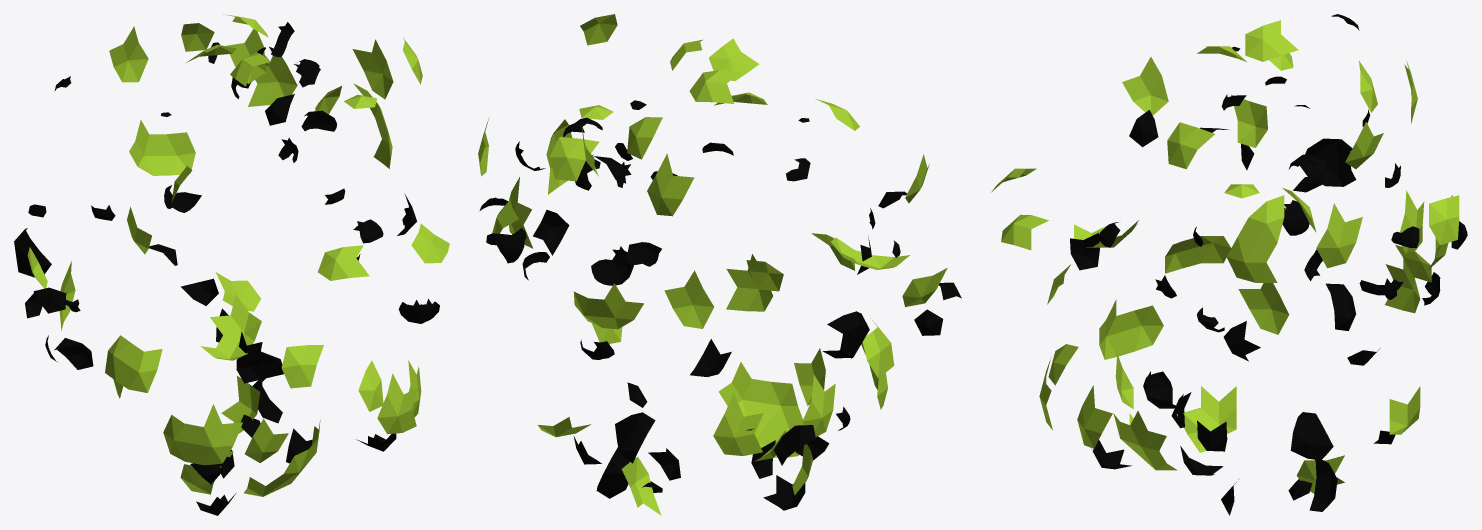
Rendered from explode.f0008.glb.
3 renders of one model, left to right at view 1: azimuth 30°, elevation 25°; view 2: azimuth 150°, elevation 25°; view 3: azimuth 270°, elevation 25°, orthographic. The views are drawn at different scales.
Parts seen in each view (by area): view 1: Body.001; view 2: Body.001; view 3: Body.001.
Part boxes in pixels (bbox=[...]): Body.001: bbox=[14, 14, 449, 515]; Body.001: bbox=[478, 14, 961, 515]; Body.001: bbox=[991, 14, 1467, 515].
Bounding box in the file's own units: 6.8 × 7.38 × 6.68.
Materials: 1 (1 with a texture image).
